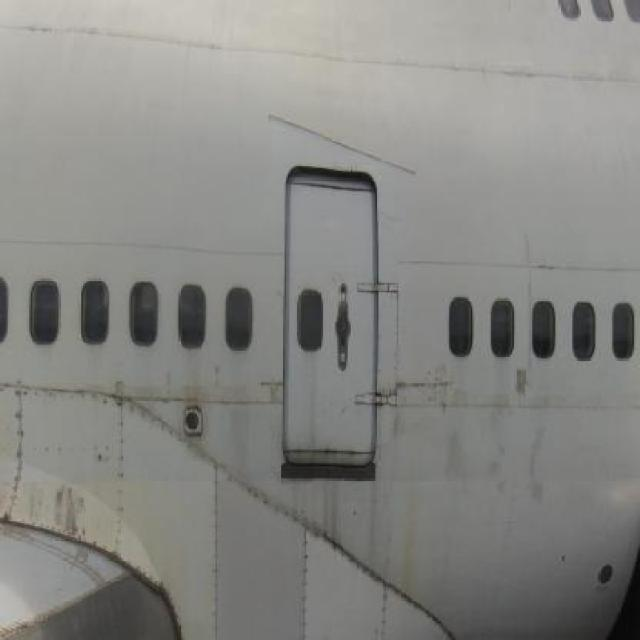Missing-Rivet: (41, 365, 179, 441), (104, 427, 144, 581), (1, 367, 32, 531)
Rust: (393, 430, 425, 604)
Scartch: (396, 362, 472, 435), (35, 467, 91, 541), (248, 375, 300, 427), (511, 357, 534, 417)
